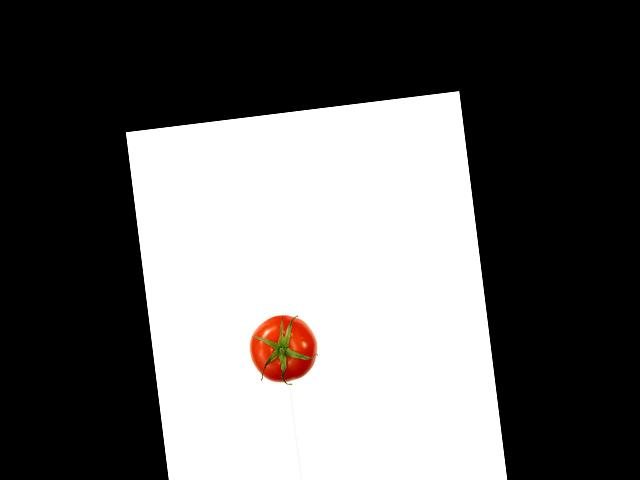tomato: (246, 310, 320, 385)
